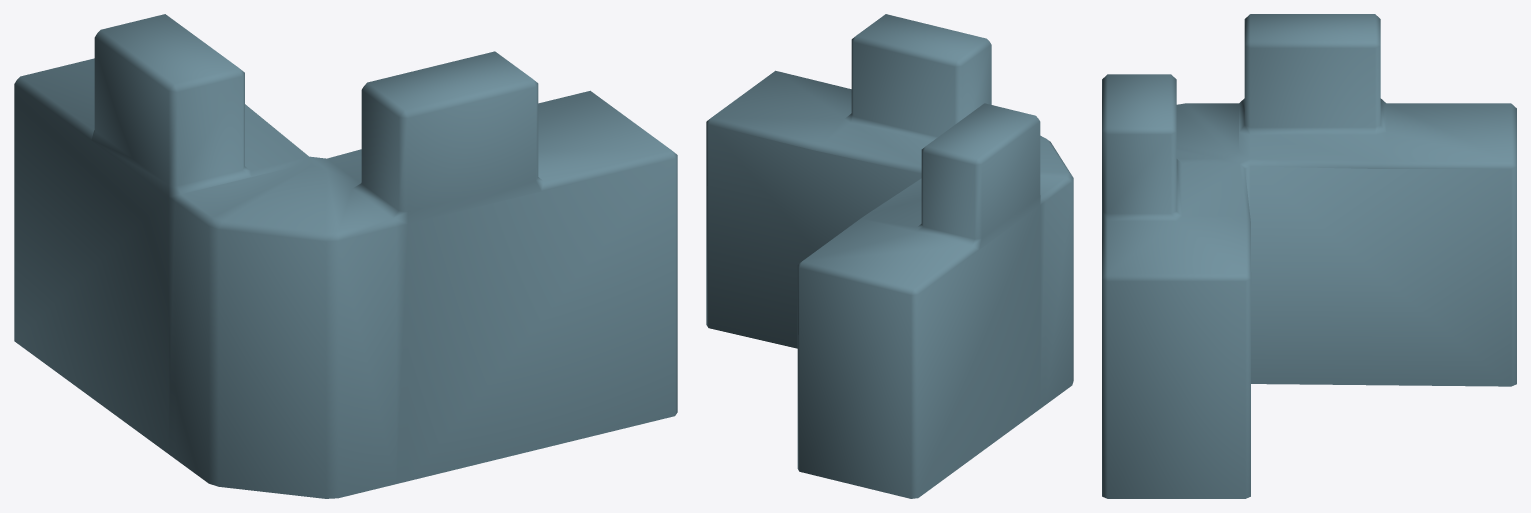
Rendered from wall.corner.001.glb.
3 renders of one model, left to right at view 1: azimuth 30°, elevation 25°; view 2: azimuth 150°, elevation 25°; view 3: azimuth 270°, elevation 25°, orthographic. The views are drawn at different scales.
Parts seen in each view (by area): view 1: wall.corner.001; view 2: wall.corner.001; view 3: wall.corner.001.
Boxes of the visible parts, x1,y1,x2,y2 form: wall.corner.001: [14, 14, 677, 498]; wall.corner.001: [706, 14, 1073, 498]; wall.corner.001: [1102, 14, 1516, 498].
Size of the model in its own units: 3.66 by 3.04 by 3.66.
